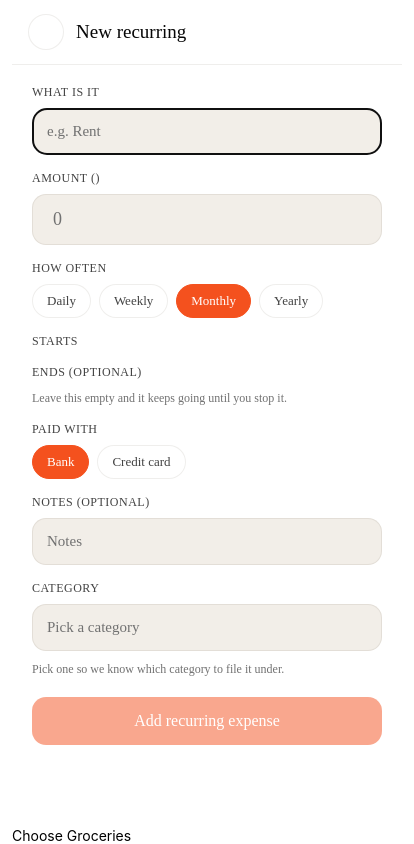
Test: does not overwrite a category selected while Pick Category is pending
Type "weekly shop" into the field with placeholder "e.g. Rent". click: (207,132)
box: [32, 108, 382, 155]
Wait 300 ms
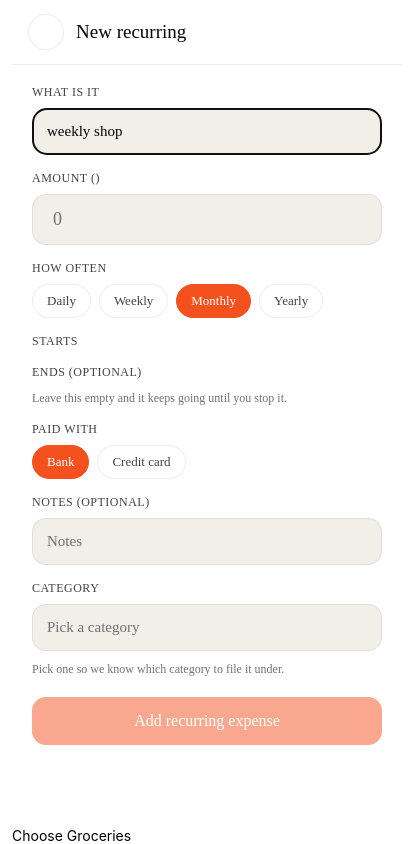
Click the button "Choose Groceries". click: (72,836)
box: [12, 827, 402, 843]
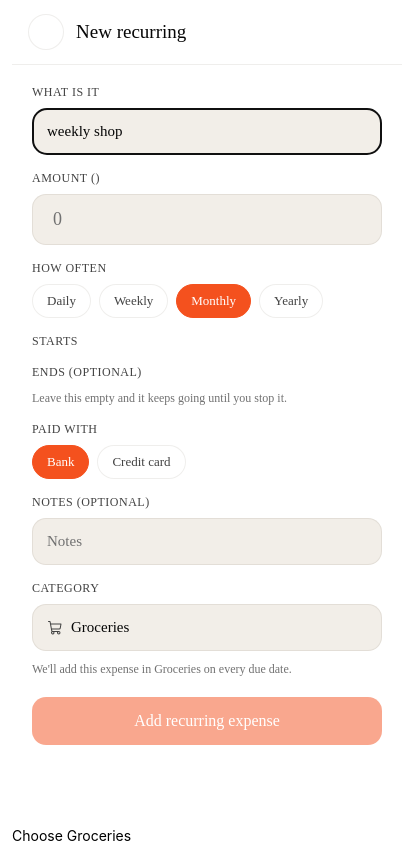
expect the button with aria-label "Category: Groceries" is shown: met, box [32, 604, 382, 651]
